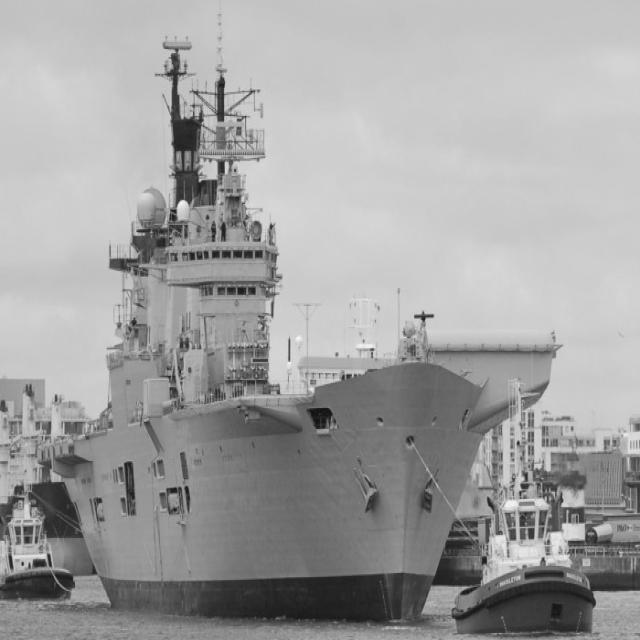Portanaves: (33, 1, 563, 624)
